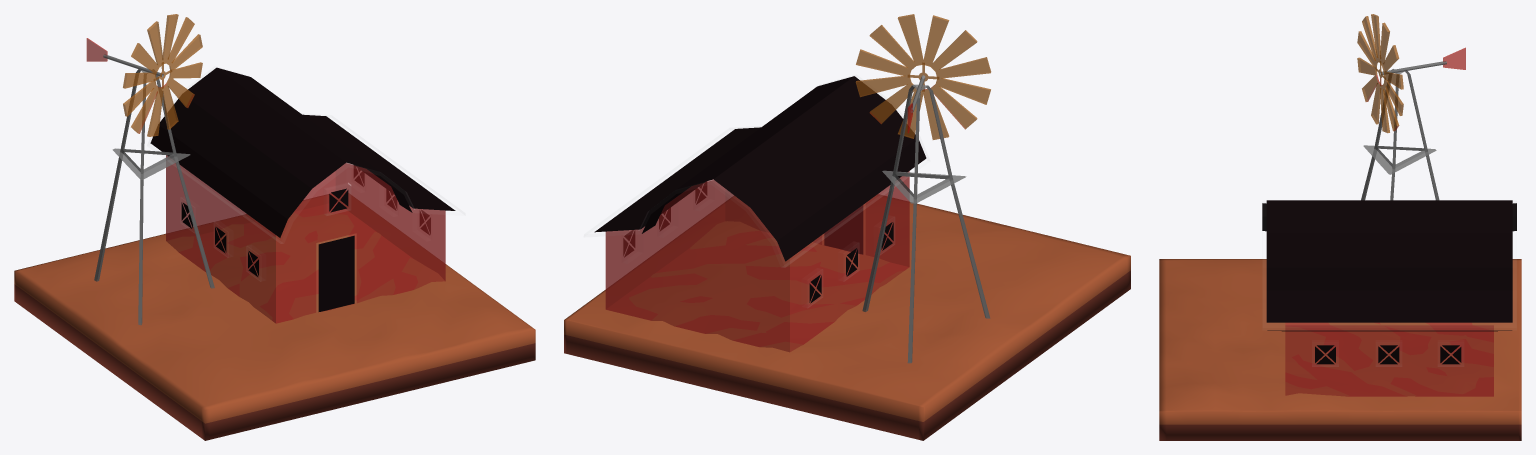
Rendered from celeiro.fbx.
3 views of the same model, side by side, from view 1: azimuth 30°, elevation 25°; view 2: azimuth 150°, elevation 25°; view 3: azimuth 270°, elevation 25° (orthographic). The views are drawn at different scales.
Parts seen in each view (by area): view 1: terreno, celeiro, moinho.001, moinho; view 2: terreno, celeiro, moinho.001, moinho; view 3: terreno, celeiro, moinho.001, moinho.
Part boxes in pixels (x1,y1,x2,y2): terreno: (14,191,535,440); celeiro: (150,67,455,323); moinho.001: (123,14,202,136); moinho: (86,38,214,325); terreno: (564,194,1130,440); celeiro: (594,76,926,352); moinho.001: (855,14,991,139); moinho: (862,62,990,363); terreno: (1159,259,1521,440); celeiro: (1262,200,1516,396); moinho.001: (1357,14,1403,133); moinho: (1361,47,1465,200).
Size of the model in its own units: 597 by 551 by 597.
